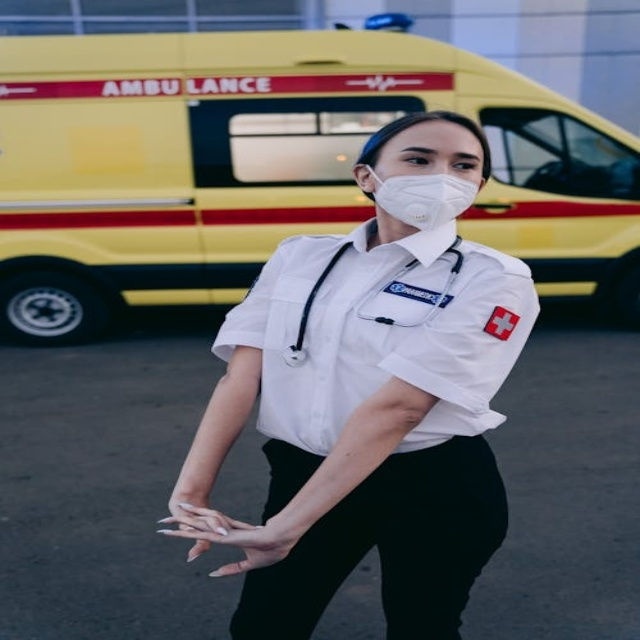Mascara: (365, 166, 476, 234)
Sin_gafas: (388, 143, 488, 177)
Sin_guantes: (154, 502, 294, 576)
